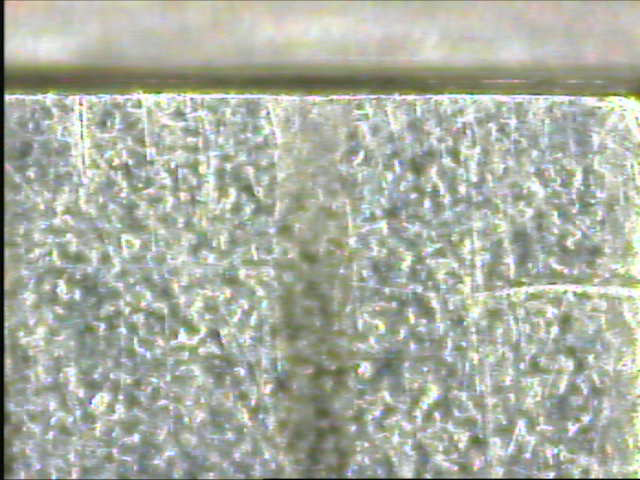line: (271, 95, 356, 476)
